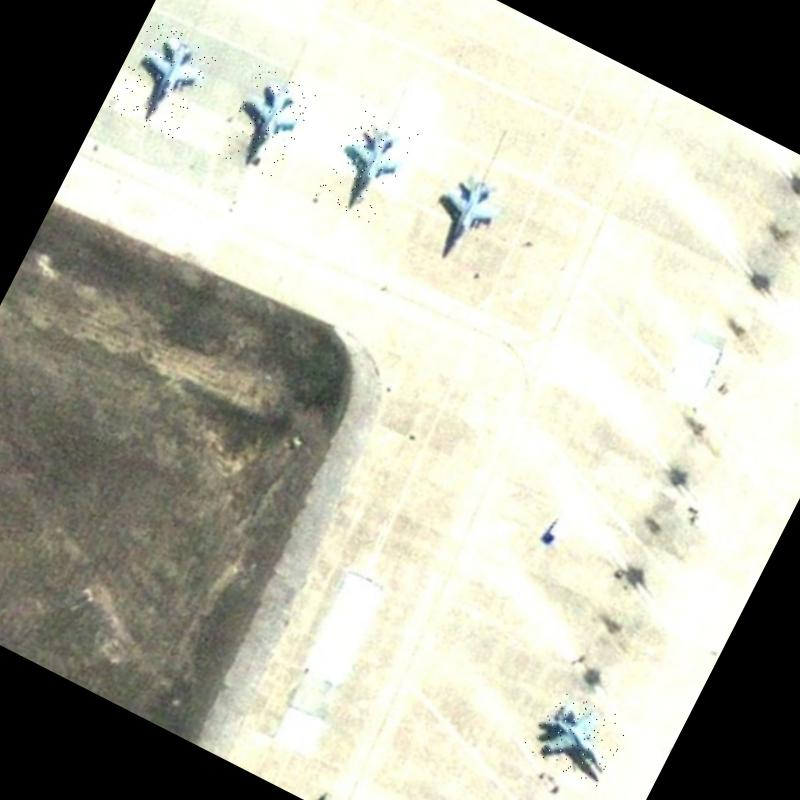A16: (106, 18, 220, 142), (408, 153, 516, 274), (212, 61, 319, 183), (314, 104, 419, 226), (520, 682, 632, 789)
